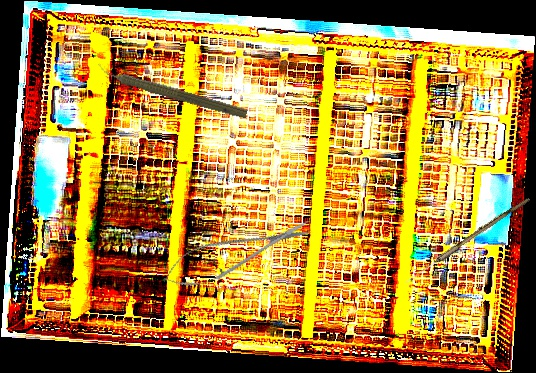Handpiece: (94, 60, 250, 122)
Micro Scissor: (157, 208, 317, 298)
Surgical Spoon: (403, 194, 531, 287)
